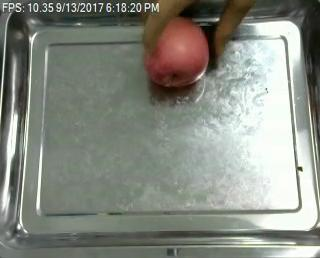apple: (146, 17, 210, 89)
